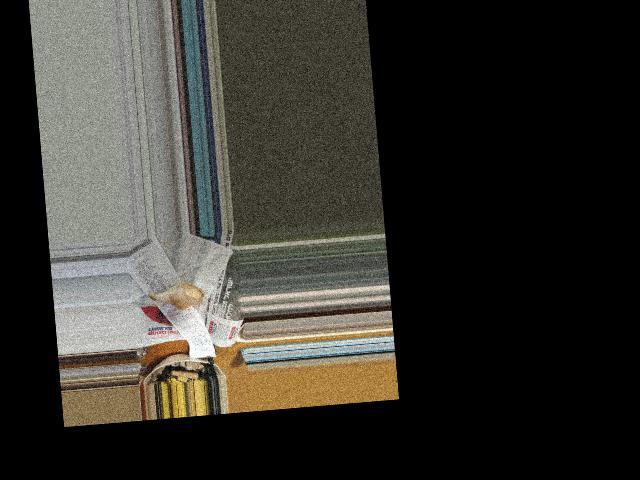onion: (166, 283, 203, 309)
